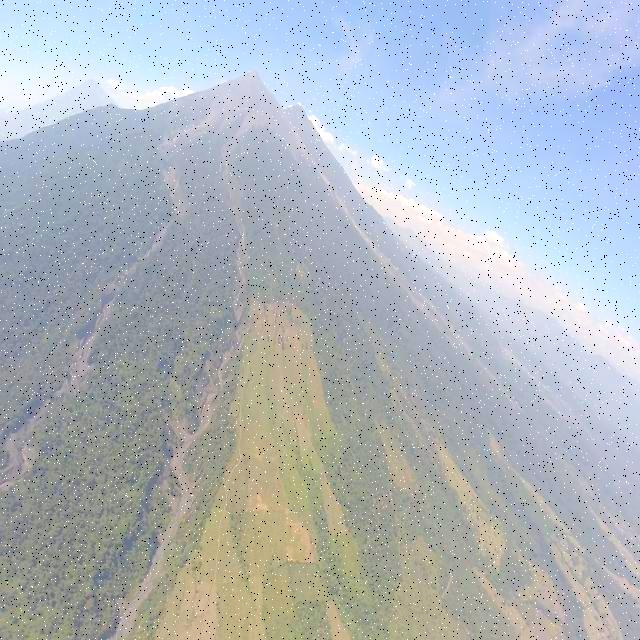Summit: (239, 64, 266, 88)
